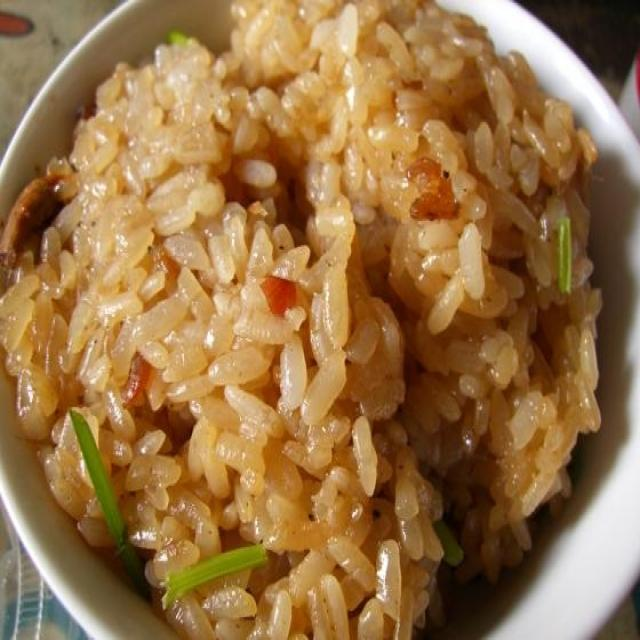米饭主食: (48, 34, 593, 623)
